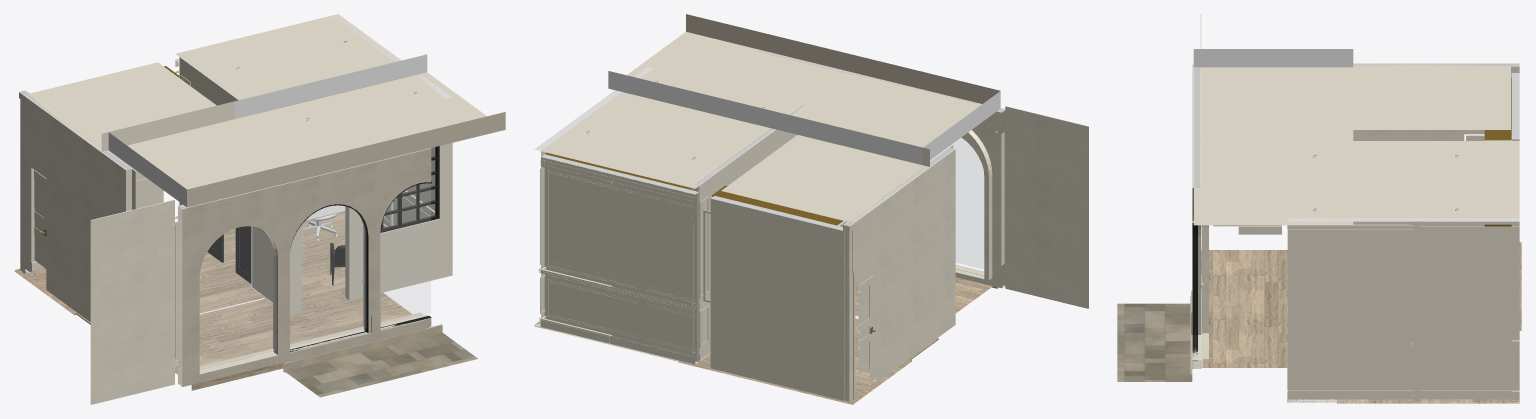
The model's file is office-east-0d2e29c5e44d.glb.
3 views of the same model, side by side, from view 1: azimuth 30°, elevation 25°; view 2: azimuth 150°, elevation 25°; view 3: azimuth 270°, elevation 25° (orthographic). The views are drawn at different scales.
Parts seen in each view (by area): view 1: office-east-look-dbd60ee5c3733ed6, office-east-look-c9e78b9ec1bb39cd, office-east-look-d5a4a1b5d3594c04, office-east-look-6a051330000fbca1, office-east-look-2575515a05775d9e, office-east-2575515a05775d9e, office-east-look-38561c12898e4d43, office-east-look-c02a36d0521470a9, office-east-look-c374268555806af8, office-east-7dc307bfa7ee071d, office-east-look-5cbcc744e6f960f3, office-east-look-982408871810a50e (+16 smaller); view 2: office-east-look-dbd60ee5c3733ed6, office-east-look-19647d6da46c2b80, office-east-19647d6da46c2b80, office-east-look-6a051330000fbca1, office-east-look-d5a4a1b5d3594c04, office-east-2575515a05775d9e, office-east-look-2575515a05775d9e, office-east-72f8f5982ac3dc36, office-east-look-38561c12898e4d43, office-east-look-c9e78b9ec1bb39cd, office-east-dbd60ee5c3733ed6, office-east-look-3b0077416469e01b (+16 smaller); view 3: office-east-6a1144f4e43410bb, office-east-look-dbd60ee5c3733ed6, office-east-2575515a05775d9e, office-east-look-2575515a05775d9e, office-east-look-c374268555806af8, office-east-look-982408871810a50e, office-east-dbd60ee5c3733ed6, office-east-2c29ddcb8551cb02, office-east-7dc307bfa7ee071d, office-east-look-6a051330000fbca1, office-east-look-c9e78b9ec1bb39cd, office-east-e54d813e60c9e7c4 (+14 smaller).
Part boxes in pixels (bbox=[...]): office-east-look-dbd60ee5c3733ed6: bbox=[108, 54, 505, 207]; office-east-look-c9e78b9ec1bb39cd: bbox=[178, 148, 431, 386]; office-east-look-d5a4a1b5d3594c04: bbox=[90, 199, 174, 404]; office-east-look-6a051330000fbca1: bbox=[19, 90, 136, 321]; office-east-look-2575515a05775d9e: bbox=[24, 62, 235, 151]; office-east-2575515a05775d9e: bbox=[175, 14, 420, 113]; office-east-look-38561c12898e4d43: bbox=[200, 226, 276, 369]; office-east-look-c02a36d0521470a9: bbox=[290, 205, 366, 347]; office-east-look-c374268555806af8: bbox=[175, 292, 429, 390]; office-east-7dc307bfa7ee071d: bbox=[293, 97, 445, 313]; office-east-look-5cbcc744e6f960f3: bbox=[380, 183, 430, 324]; office-east-look-982408871810a50e: bbox=[283, 332, 477, 397]; office-east-look-dbd60ee5c3733ed6: bbox=[608, 14, 1000, 165]; office-east-look-19647d6da46c2b80: bbox=[710, 195, 842, 400]; office-east-19647d6da46c2b80: bbox=[541, 154, 699, 364]; office-east-look-6a051330000fbca1: bbox=[843, 144, 955, 401]; office-east-look-d5a4a1b5d3594c04: bbox=[1005, 106, 1088, 308]; office-east-2575515a05775d9e: bbox=[541, 92, 765, 188]; office-east-look-2575515a05775d9e: bbox=[721, 135, 929, 222]; office-east-72f8f5982ac3dc36: bbox=[692, 104, 807, 361]; office-east-look-38561c12898e4d43: bbox=[930, 138, 983, 269]; office-east-look-c9e78b9ec1bb39cd: bbox=[756, 50, 1005, 288]; office-east-dbd60ee5c3733ed6: bbox=[615, 67, 793, 129]; office-east-look-3b0077416469e01b: bbox=[678, 318, 938, 404]; office-east-6a1144f4e43410bb: bbox=[1287, 218, 1519, 402]; office-east-look-dbd60ee5c3733ed6: bbox=[1193, 49, 1353, 225]; office-east-2575515a05775d9e: bbox=[1353, 141, 1519, 221]; office-east-look-2575515a05775d9e: bbox=[1353, 63, 1510, 129]; office-east-look-c374268555806af8: bbox=[1192, 250, 1287, 367]; office-east-look-982408871810a50e: bbox=[1117, 303, 1192, 381]; office-east-dbd60ee5c3733ed6: bbox=[1287, 141, 1353, 221]; office-east-2c29ddcb8551cb02: bbox=[1287, 390, 1519, 399]; office-east-7dc307bfa7ee071d: bbox=[1287, 144, 1295, 390]; office-east-look-6a051330000fbca1: bbox=[1353, 63, 1519, 140]; office-east-look-c9e78b9ec1bb39cd: bbox=[1192, 64, 1201, 368]; office-east-e54d813e60c9e7c4: bbox=[1300, 226, 1519, 234].
Size of the model in its own units: 7.25 by 3.46 by 6.07.
26 materials, 7 textured.
